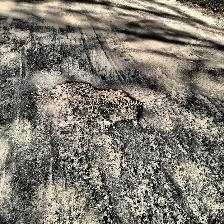pothole: (48, 80, 144, 130)
